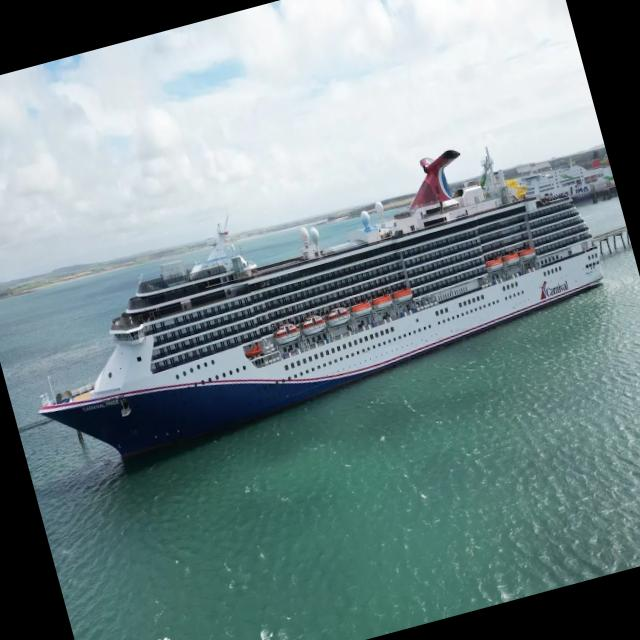Cruise: (37, 146, 602, 468), (506, 149, 614, 196)
